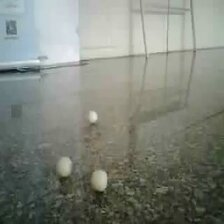tennis: (210, 110, 224, 139), (129, 77, 147, 98), (60, 66, 77, 85), (138, 60, 152, 75)
